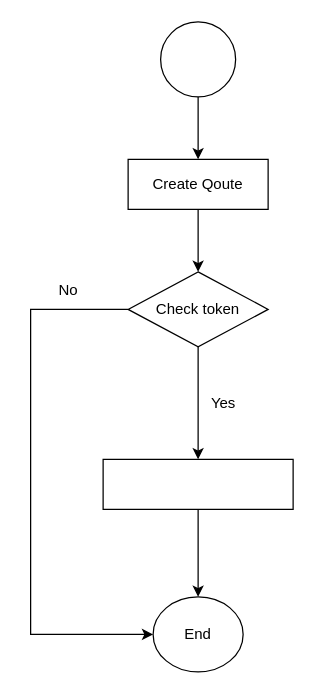
Image size: 315x694. Some labels were removed from this diagram. Here are the shapes that lost their labels. From the top down, the box of each, then its label:
(159, 21, 236, 97): Start
(102, 458, 293, 509): Create qoute success
